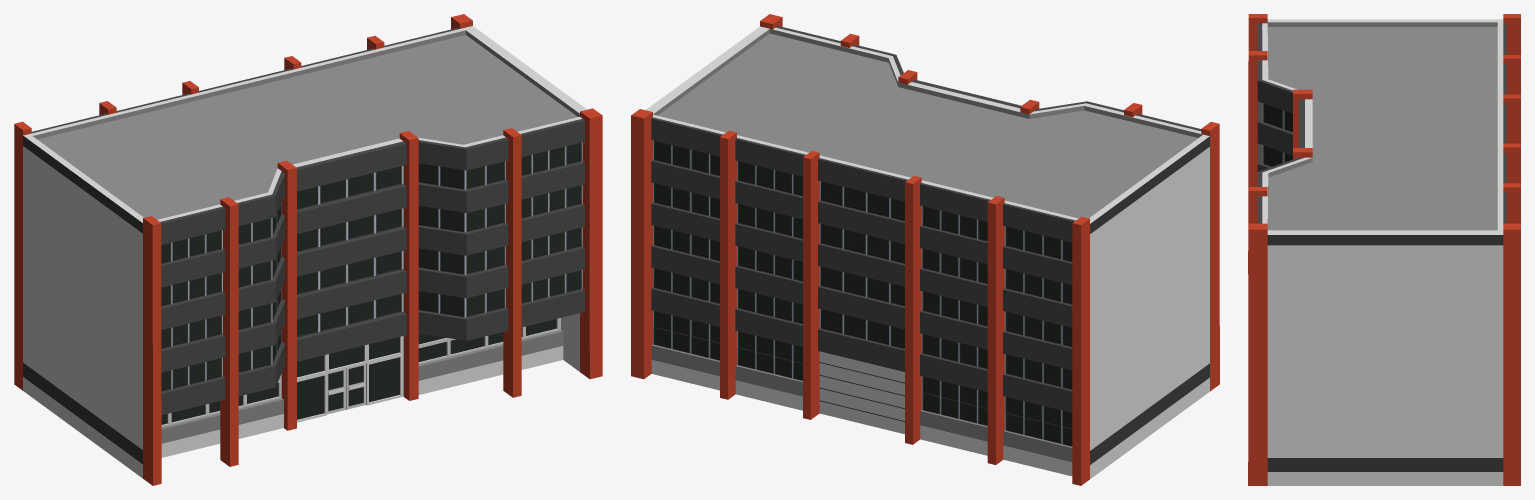
3 renders of one model, left to right at view 1: azimuth 30°, elevation 25°; view 2: azimuth 150°, elevation 25°; view 3: azimuth 270°, elevation 25°, orthographic.
Parts seen in each view (by area): view 1: BB-07; view 2: BB-07; view 3: BB-07.
Part boxes in pixels (x1,y1,x2,y2): BB-07: (14, 14, 602, 485); BB-07: (631, 14, 1219, 485); BB-07: (1248, 14, 1520, 485).
Size of what is drawn, in the model's own units: 33.18 by 18.37 by 17.72.
